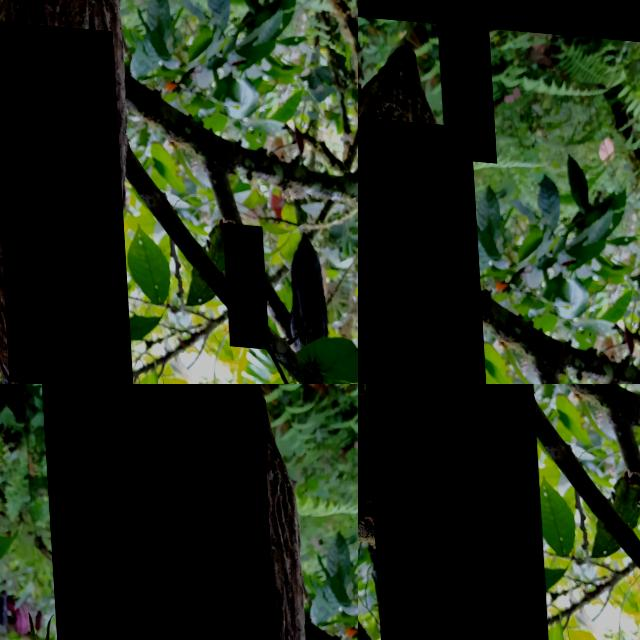Fitoftora: (358, 384, 544, 640), (0, 16, 126, 384), (537, 126, 604, 286), (438, 17, 495, 156)
Sana: (40, 384, 287, 640), (358, 106, 492, 384), (218, 214, 263, 340)
